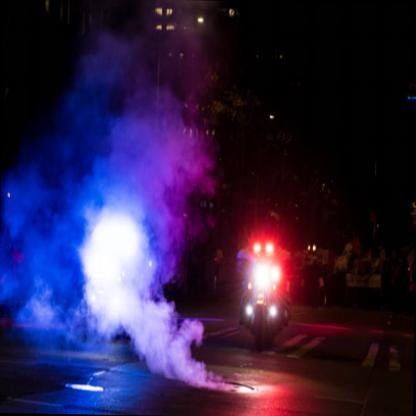manholes: (167, 360, 292, 408)
